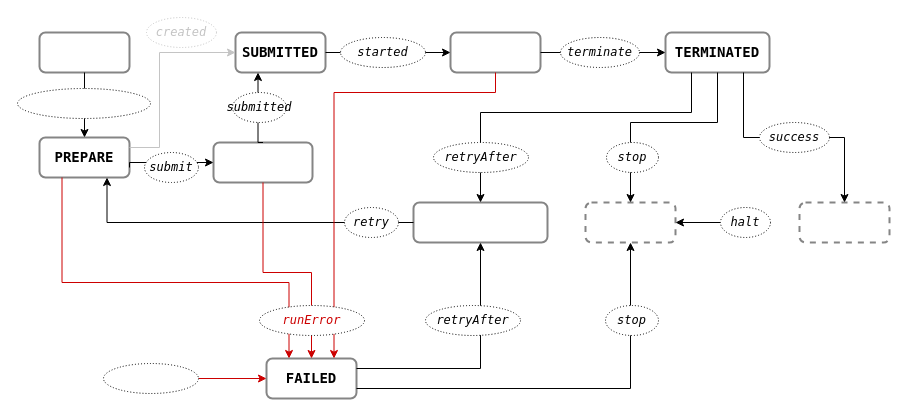
The diagram is 908 pixels wide and 417 high, and some of its shapes have lost their labels. Each missing label, with the box of its shape:
AWAITING_RETRY: (412, 201, 548, 243)
DONE: (798, 201, 890, 243)
ERROR: (584, 201, 676, 243)
NEW: (38, 31, 130, 73)
RUNNING: (449, 31, 541, 73)
SUBMITTING: (212, 141, 313, 183)
timeout: (102, 362, 198, 394)
triggerExecution: (16, 88, 150, 118)
